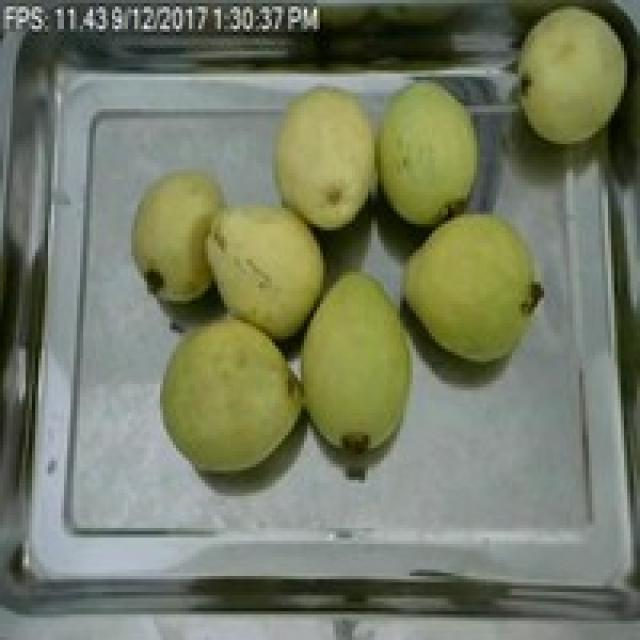Fruit: (390, 198, 557, 372), (154, 310, 310, 480), (288, 266, 422, 460), (365, 67, 493, 240), (262, 70, 388, 244), (195, 195, 336, 349), (506, 0, 636, 154), (122, 157, 240, 310)
